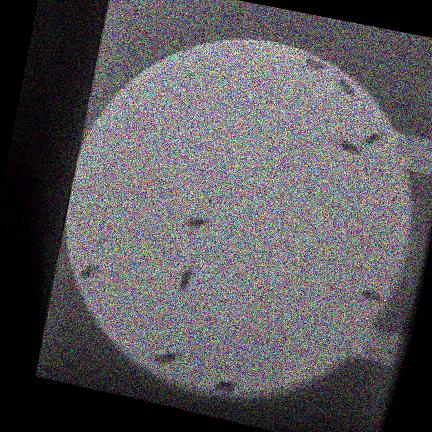fly: (359, 131, 384, 147), (177, 265, 191, 291), (337, 139, 359, 155), (182, 217, 210, 229), (359, 287, 381, 302), (212, 381, 236, 394), (337, 77, 354, 95), (152, 353, 179, 364), (79, 264, 99, 278), (304, 58, 325, 71)
